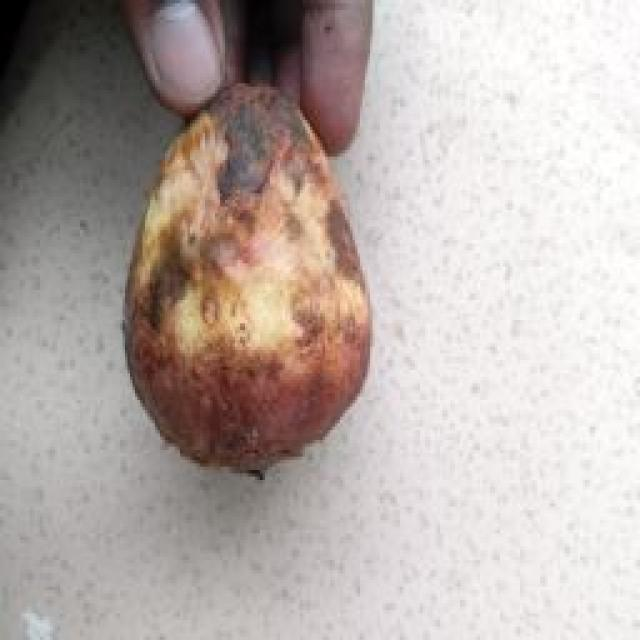Bad_Guava: (126, 85, 371, 471)
